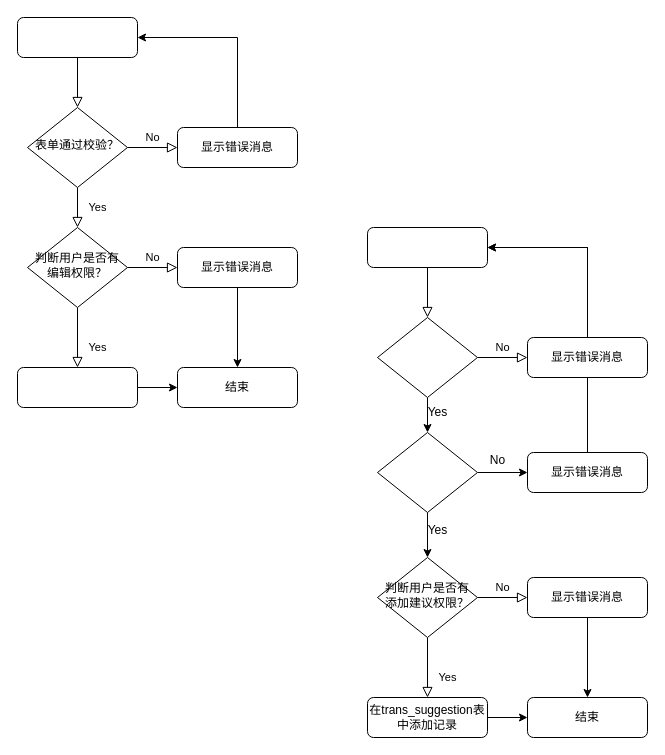
Some shapes in this 665 by 755 pixel diagram are drawn without their labels. Each missing label, with the centre of its shape:
"判断当前用户是否存在建议？" belongs at (427,357).
"提交翻译内容" belongs at (77,37).
"提交翻译建议" belongs at (427,247).
"更新trans_unit表中的target以及state" belongs at (77,387).
"校验表单是否通过？？" belongs at (427,472).
